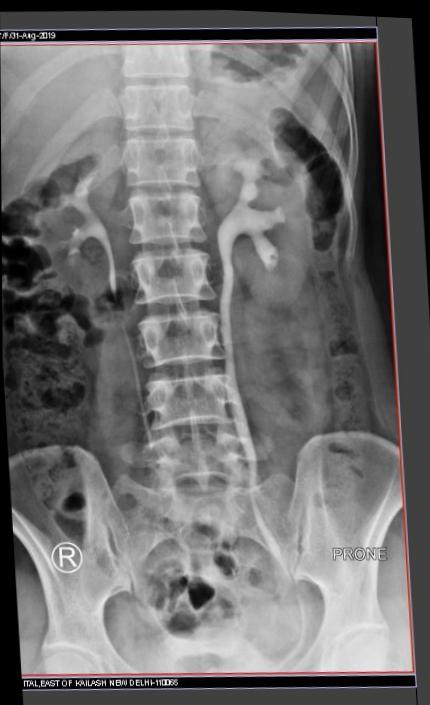left kidney: (221, 124, 355, 312)
right kidney: (26, 116, 133, 307)
vertebrae: (136, 175, 228, 248)
